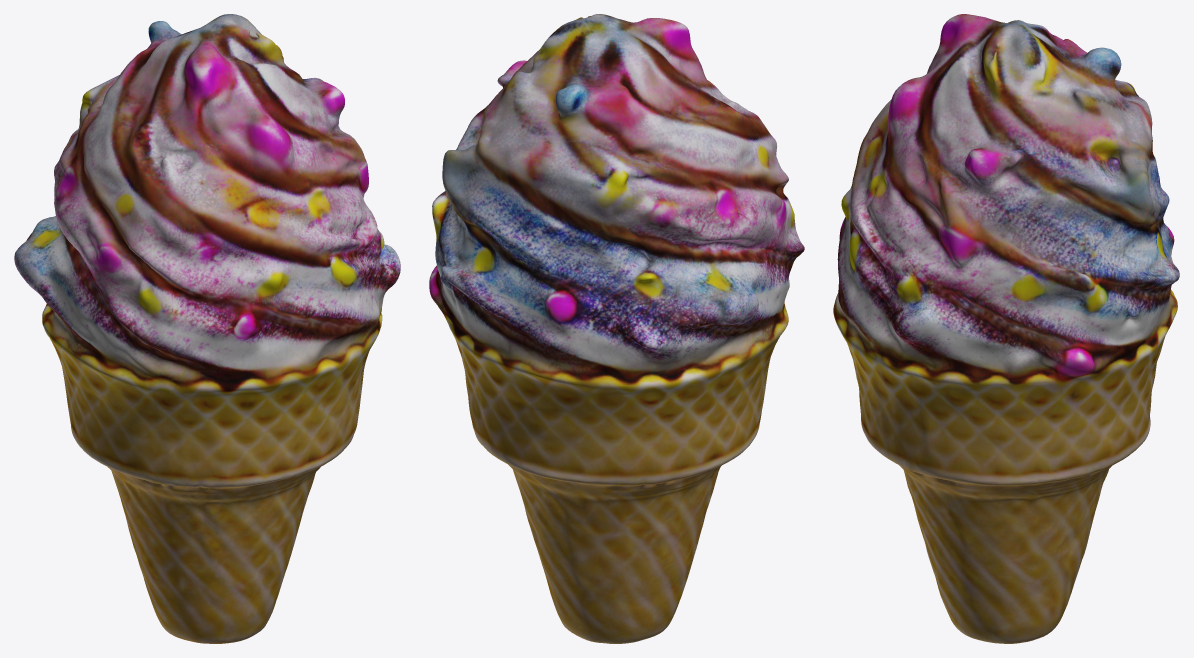
The model's file is BigCone.fbx.
3 views of the same model, side by side, from view 1: azimuth 30°, elevation 25°; view 2: azimuth 150°, elevation 25°; view 3: azimuth 270°, elevation 25° (orthographic).
Parts seen in each view (by area): view 1: high_poly; view 2: high_poly; view 3: high_poly.
Part boxes in pixels (x1,y1,x2,y2): high_poly: (14, 14, 400, 643); high_poly: (429, 14, 804, 643); high_poly: (833, 14, 1179, 643).
Bounding box in the file's own units: 54.34 × 100 × 52.01.
